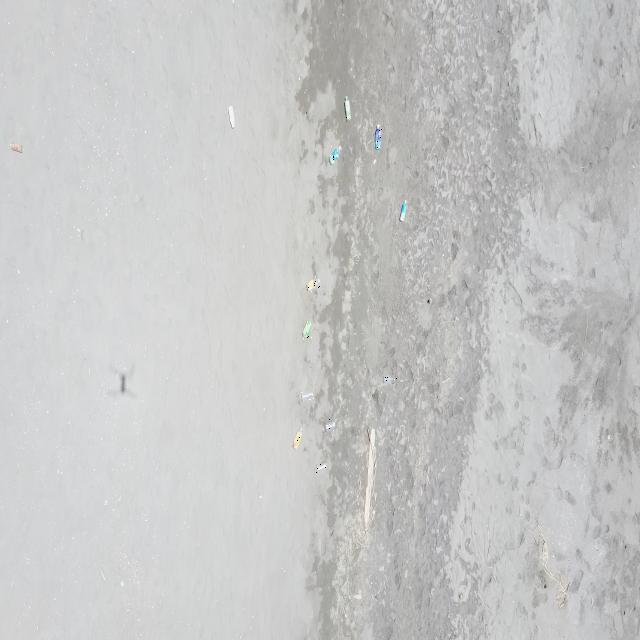plastic-bottle: (306, 275, 320, 294), (293, 427, 303, 452), (398, 200, 408, 224), (330, 146, 342, 166), (302, 319, 313, 340), (374, 124, 382, 152), (344, 95, 352, 122), (228, 105, 235, 130)
takeaway-cup: (382, 372, 397, 387), (301, 390, 316, 401), (322, 419, 334, 432), (316, 462, 328, 475)
